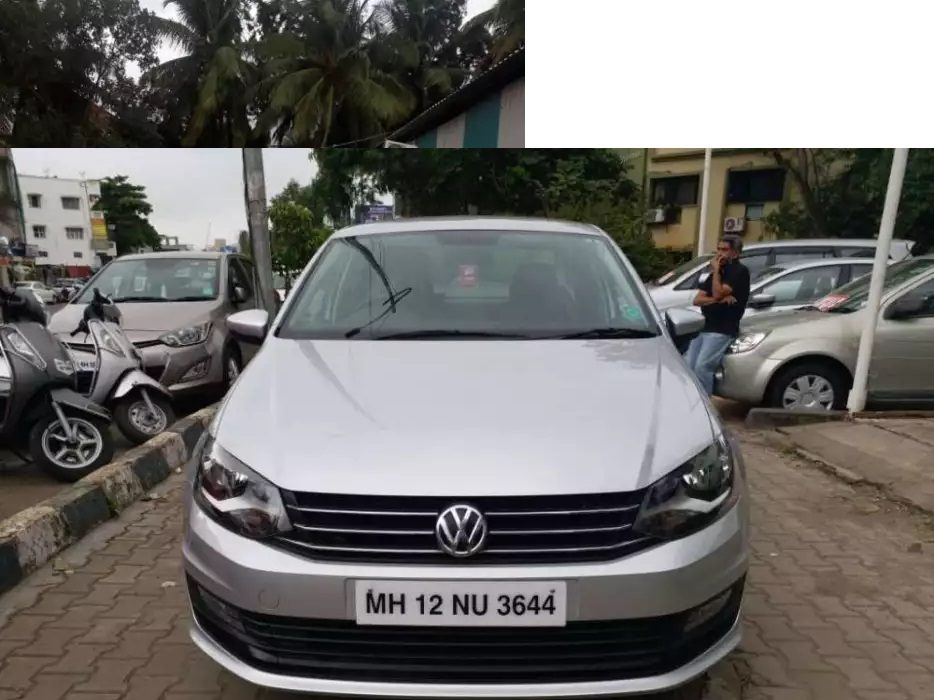licenseplate: (354, 576, 571, 633)
